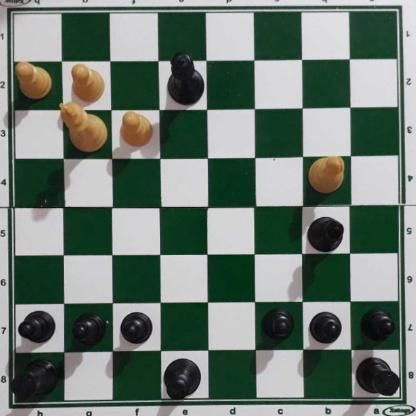black-bishop: (307, 215, 345, 252)
black-king: (162, 357, 202, 402)
black-pawn: (20, 311, 56, 347), (121, 313, 154, 348), (362, 312, 396, 345), (311, 312, 343, 346), (73, 315, 105, 348), (264, 310, 295, 344)
black-queen: (168, 51, 204, 107)
black-rook: (356, 358, 403, 401), (11, 361, 58, 403)
white-bishop: (307, 154, 346, 194)
white-king: (58, 101, 107, 151)
white-pawn: (69, 64, 106, 104), (16, 63, 53, 101), (120, 113, 154, 150)
